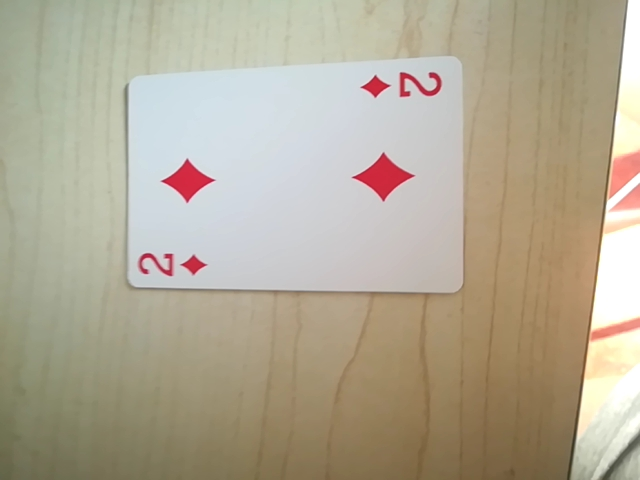fk 2: (358, 64, 450, 108), (132, 245, 209, 286)
